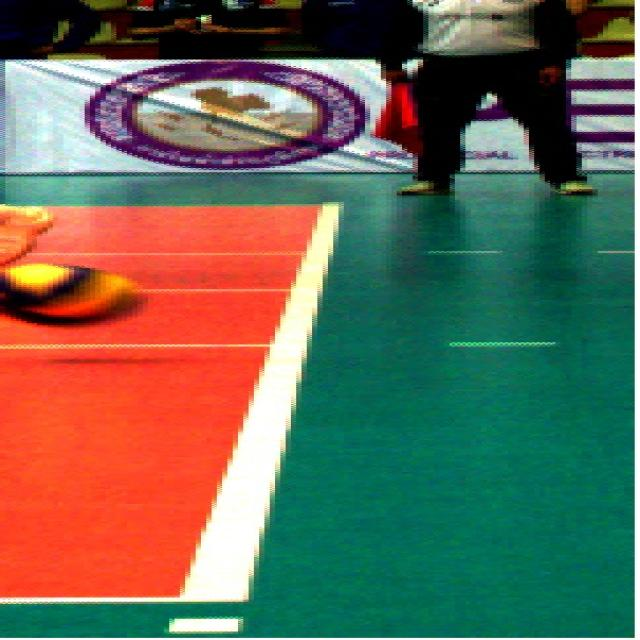Volleyball: (2, 262, 149, 328)
